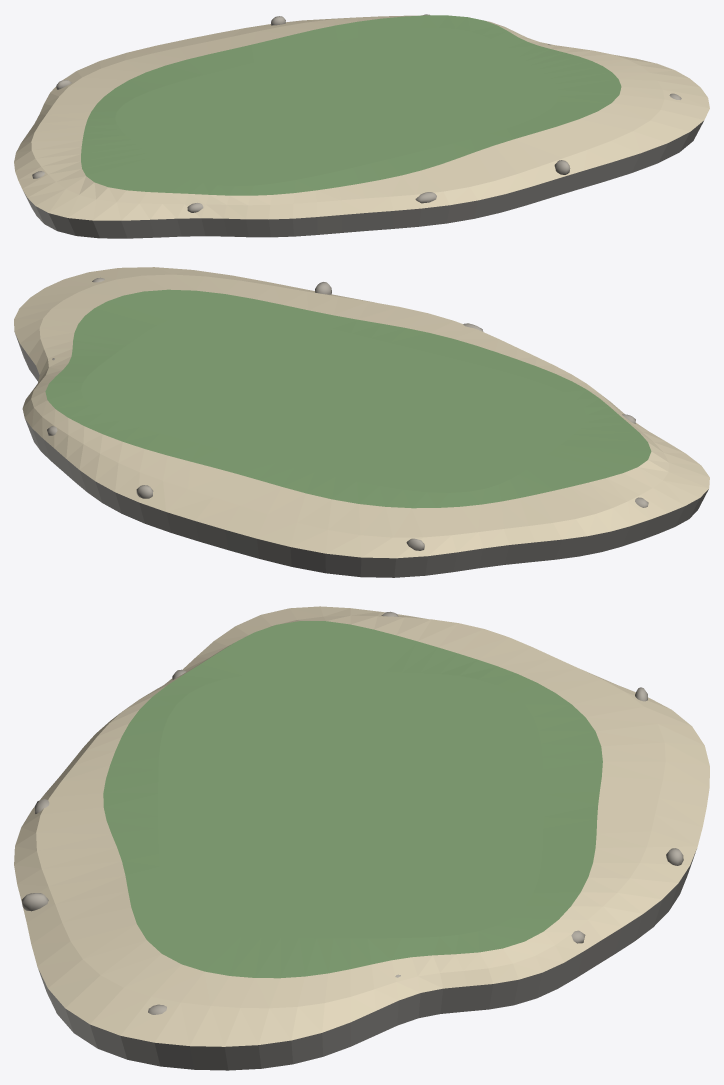
The model's file is MIL_Island_M.fbx.
3 views of the same model, one above another, from view 1: azimuth 30°, elevation 25°; view 2: azimuth 150°, elevation 25°; view 3: azimuth 270°, elevation 25° (orthographic). The views are drawn at different scales.
Parts seen in each view (by area): view 1: MIL_Island_M_MAT_IslandGrass, MIL_Island_M_MAT_IslandSand, Bank_3.002, MIL_Island_M_MAT_IslandCliff; view 2: MIL_Island_M_MAT_IslandGrass, MIL_Island_M_MAT_IslandSand, Bank_3.002, MIL_Island_M_MAT_IslandCliff; view 3: MIL_Island_M_MAT_IslandGrass, MIL_Island_M_MAT_IslandSand, Bank_3.002, MIL_Island_M_MAT_IslandCliff.
Part boxes in pixels (x1=…): MIL_Island_M_MAT_IslandGrass: x1=81, y1=15, x2=621, y2=195; MIL_Island_M_MAT_IslandSand: x1=14, y1=15, x2=709, y2=220; Bank_3.002: x1=23, y1=121, x2=703, y2=238; MIL_Island_M_MAT_IslandCliff: x1=32, y1=14, x2=681, y2=212; MIL_Island_M_MAT_IslandGrass: x1=45, y1=289, x2=651, y2=508; MIL_Island_M_MAT_IslandSand: x1=14, y1=267, x2=709, y2=558; Bank_3.002: x1=15, y1=334, x2=708, y2=577; MIL_Island_M_MAT_IslandCliff: x1=47, y1=277, x2=648, y2=550; MIL_Island_M_MAT_IslandGrass: x1=103, y1=621, x2=602, y2=978; MIL_Island_M_MAT_IslandSand: x1=14, y1=606, x2=709, y2=1046; Bank_3.002: x1=38, y1=849, x2=696, y2=1070; MIL_Island_M_MAT_IslandCliff: x1=21, y1=611, x2=683, y2=1014.
Bounding box in the file's own units: 8119 × 455 × 5422.
